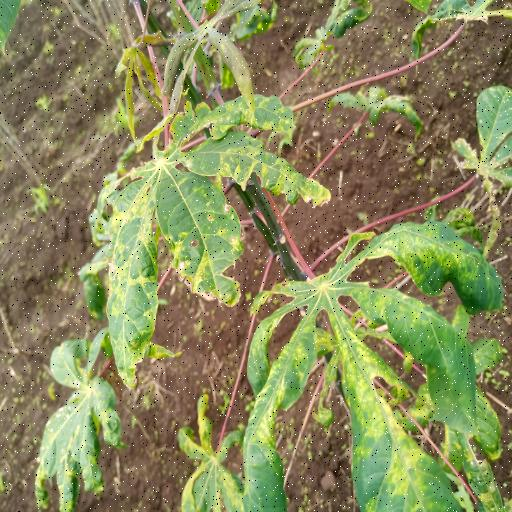Cassava_Mosaic: (246, 221, 509, 512), (102, 91, 326, 386), (27, 341, 113, 512)
